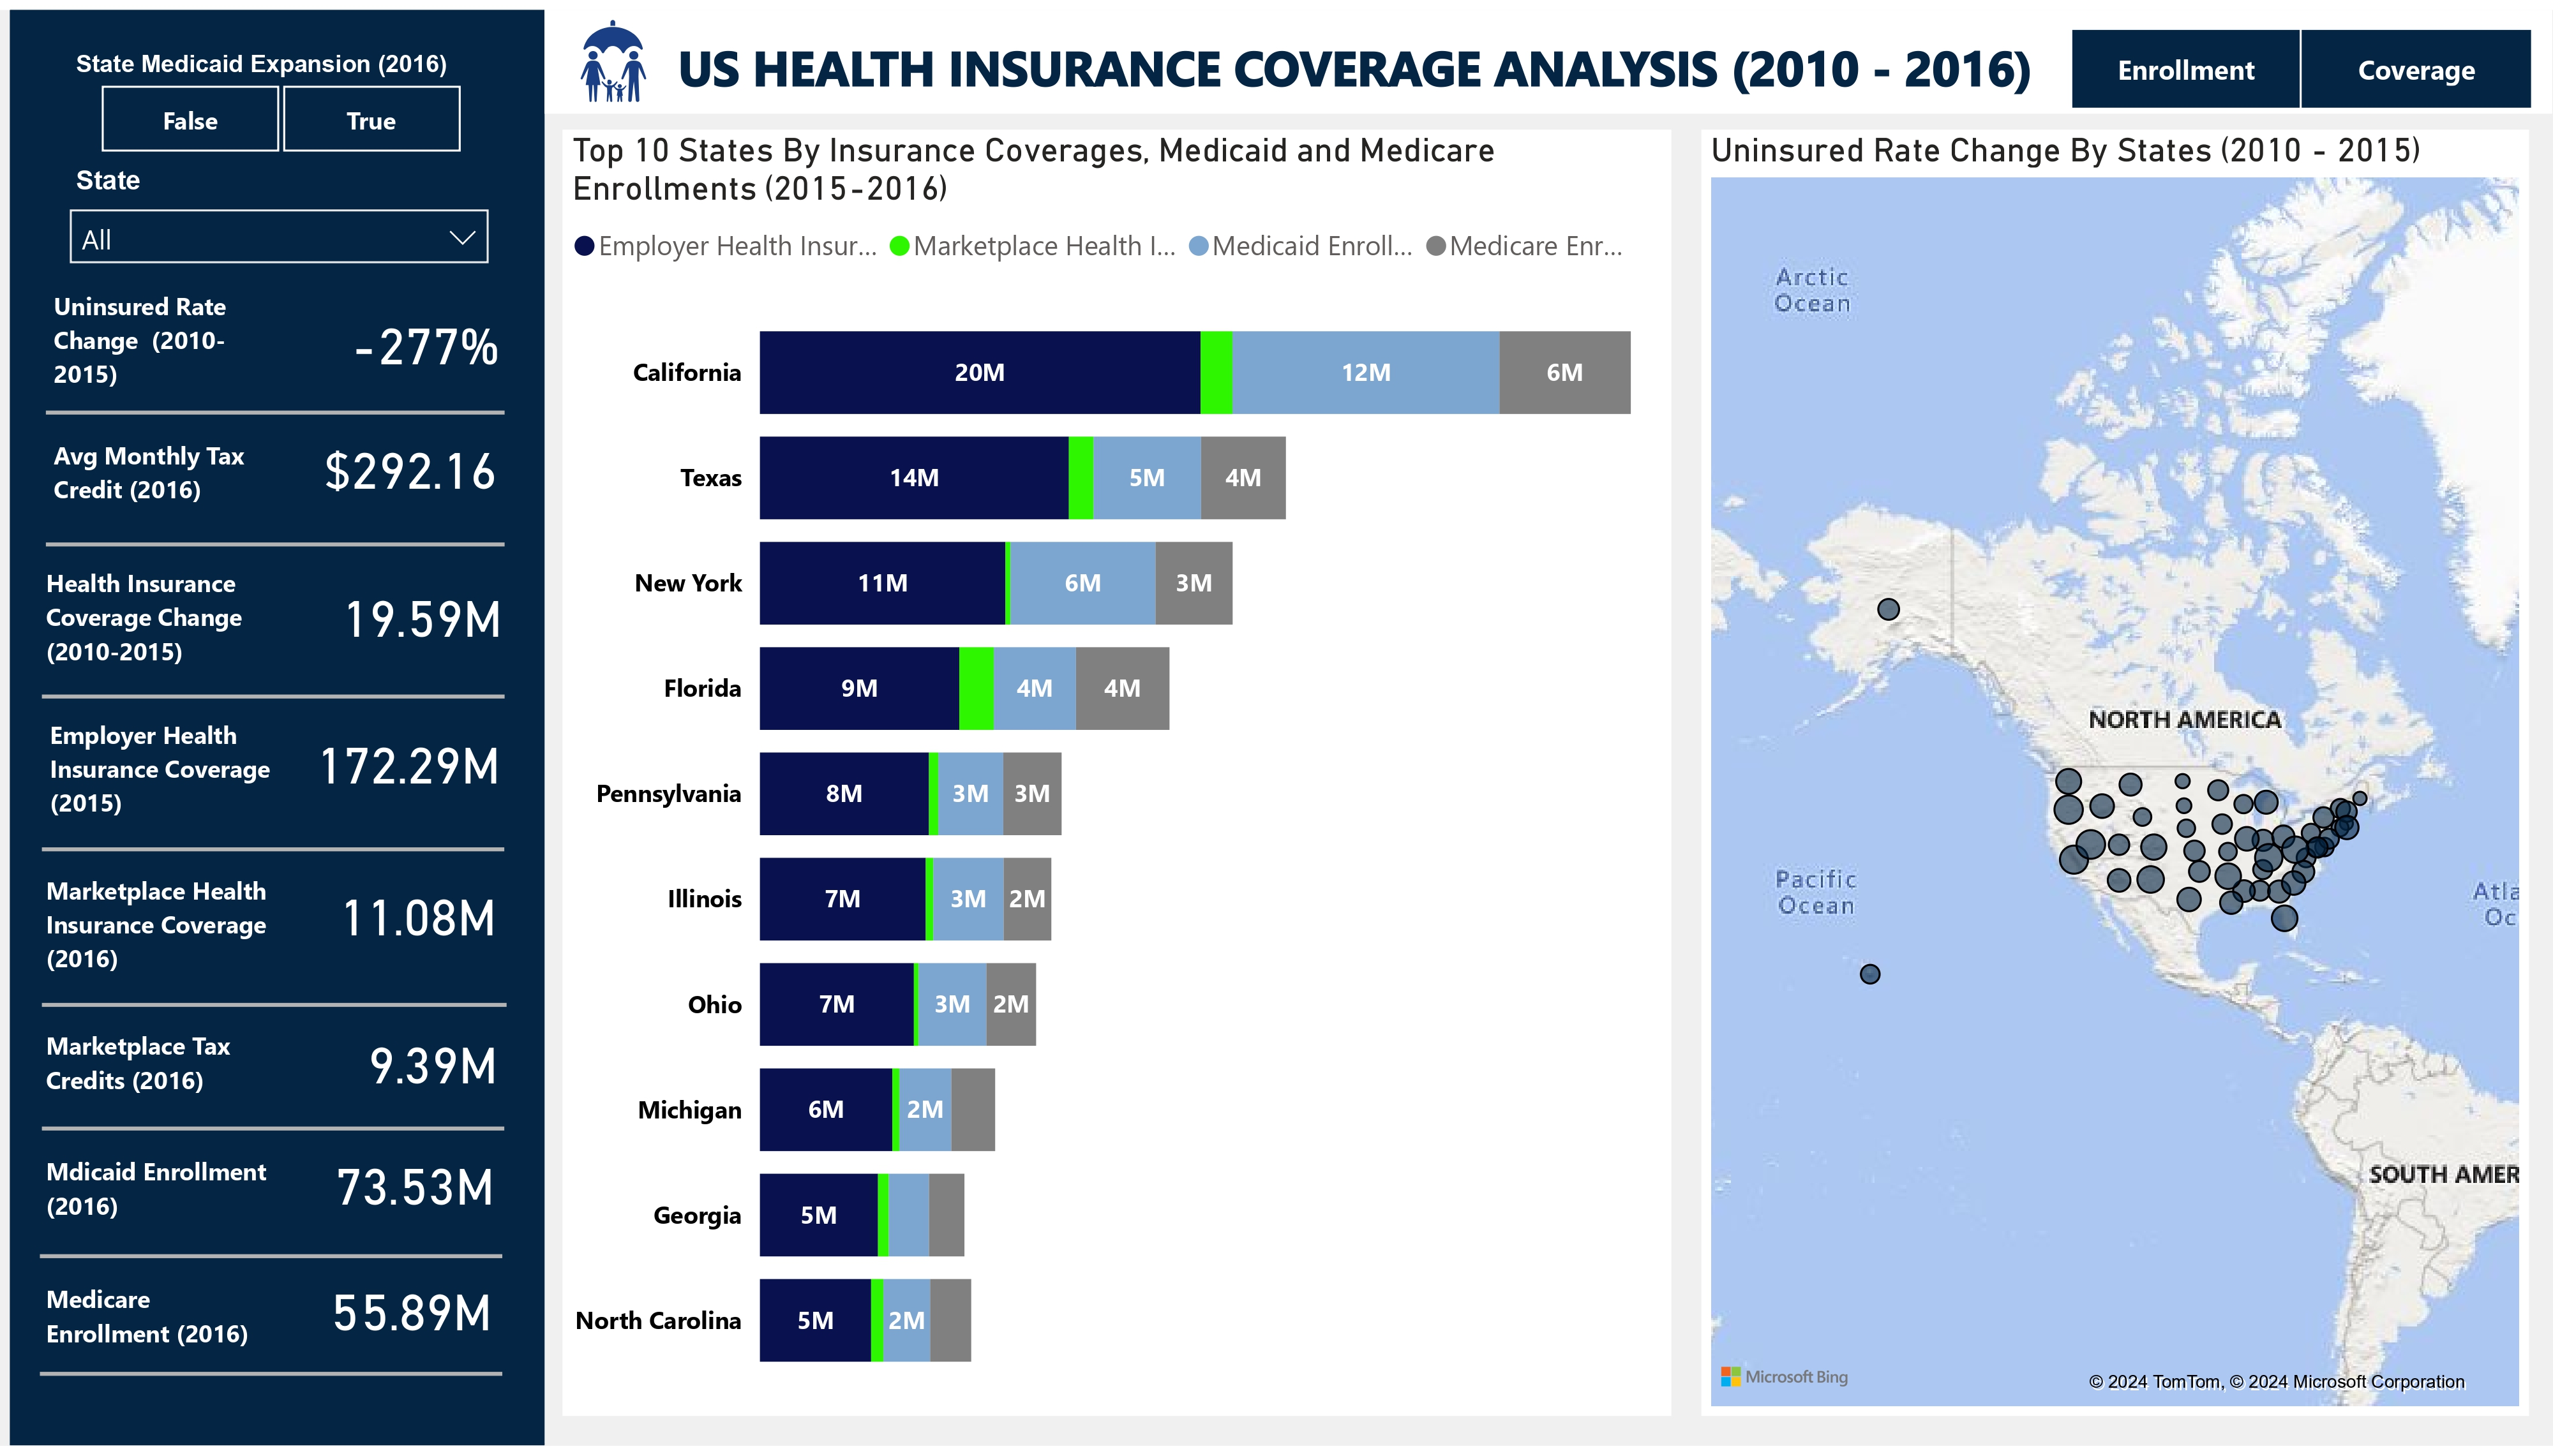

This screenshot's page, from the dashboard's own definition file:
{"tool":"powerbi","page":{"name":"REPORT 1","canvas":[1280,720],"ordinal":0},"visuals":[{"type":"shape","box":[5,0,268.4,719.7],"z":0},{"type":"card","fields":{"Values":["DAX.Avg Average Monthly Tax Credit (2016)"]},"box":[137.5,191.3,137.5,78],"z":1000},{"type":"card","fields":{"Values":["DAX.Formatted Health Insurance Coverage Change (2010-2015)"]},"box":[141.7,263.6,138.9,80.8],"z":2000},{"type":"card","fields":{"Values":["DAX.FORMATTED Employee Health Insurance Coverage (2015)"]},"box":[127.6,338.7,153.1,78],"z":3000},{"type":"card","fields":{"Values":["DAX.Formatted Marketplace Health Insurance Coverage (2016)"]},"box":[140.3,415.3,138.9,78],"z":4000},{"type":"shape","box":[23.3,249.6,230.4,36],"z":5000},{"type":"card","fields":{"Values":["DAX.Formatted Marketplace Tax Credit (2016)"]},"box":[146,487.6,141.7,80.8],"z":6000},{"type":"shape","box":[21.3,323.1,232.4,42.5],"z":7000},{"type":"shape","box":[21.3,399.9,231.8,41.8],"z":8000},{"type":"shape","box":[23.3,181.5,230.4,41.8],"z":9000},{"type":"shape","box":[21.3,477.6,233.3,41.8],"z":10000},{"type":"card","fields":{"Values":["DAX.Formatted Uninsured Rate Change (2010-2016)"]},"box":[144.6,127.6,136.1,79.4],"z":11000},{"type":"card","fields":{"Values":["DAX.Medicaid Enrollment (2016)"]},"box":[137.5,549.9,141.6,78.4],"z":12000},{"type":"textbox","box":[21.8,209.3,109.4,66.2],"z":13000},{"type":"textbox","box":[18.4,273.1,125.3,79.2],"z":14000},{"type":"textbox","box":[19.8,349.5,125.3,79.2],"z":15000},{"type":"textbox","box":[18.4,426.6,124.7,79.4],"z":16000},{"type":"textbox","box":[21.8,134,109.4,63.4],"z":17000},{"type":"textbox","box":[18.4,504.6,124.7,73.7],"z":18000},{"type":"shape","box":[21.3,540.3,231.8,41.8],"z":19000},{"type":"textbox","box":[18.4,568.4,125.3,60.5],"z":20000},{"type":"shape","box":[19.9,604.4,231.8,41.8],"z":21000},{"type":"card","fields":{"Values":["DAX.Medicare Enrollment (2016)"]},"box":[134.7,613.2,141.6,78.4],"z":22000},{"type":"textbox","box":[18.4,632.1,124.7,59.5],"z":23000},{"type":"shape","box":[19.9,663.3,231.8,41.8],"z":24000},{"type":"barChart","title":"Top 10 States With Most Declined Uninsured Rate Change (2010-2016)","fields":{"Category":["states.State"],"Y":["Sum(states.Uninsured Rate Change (2010-2015))"]},"box":[280.5,62.2,307,312],"z":25000},{"type":"donutChart","title":"States Medicaid Expansion (2016) Enrollment Status","fields":{"Series":["states.State Medicaid Expansion (2016)"],"Y":["CountNonNull(states.State Medicaid Expansion (2016))"]},"box":[599.7,62.2,312.4,312],"z":26000},{"type":"barChart","title":"Top 10 States With The Most Significant Medicaid Enrollment Change (2013-2016)","fields":{"Category":["states.State"],"Y":["Sum(states.Medicaid Enrollment Change (2013-2016))"]},"box":[923.9,62.2,344.4,312],"z":27000},{"type":"barChart","title":"Top 10 States By Health Insurance Coverage Change (2010-2015)","fields":{"Category":["states.State"],"Y":["Sum(states.Health Insurance Coverage Change (2010-2015))"]},"box":[280.5,386.4,307.4,322.5],"z":28000},{"type":"slicer","fields":{"Values":["states.State"]},"box":[24.7,72.9,229.6,64.6],"z":29000},{"type":"slicer","fields":{"Values":["states.State Medicaid Expansion (2016)"]},"box":[24.7,15.1,229.6,63.2],"z":30000},{"type":"shape","box":[273.4,0,1006.6,52],"z":31000},{"type":"textbox","box":[334.5,7.3,837.8,50.9],"z":32000},{"type":"image","box":[273.5,0,69.8,50.9],"z":33000},{"type":"barChart","title":"Top 10 States By Avg Monthly Tax Credit (2016)","fields":{"Category":["states.State"],"Y":["Sum(states.Average Monthly Tax Credit (2016))"]},"box":[599.7,389.7,312.4,317.5],"z":34000},{"type":"actionButton","box":[1153.7,7.1,114.8,39.7],"z":35000},{"type":"barChart","title":"Top 10 States By Marketplace Tax Credits (2016)","fields":{"Category":["states.State"],"Y":["Sum(states.Marketplace Tax Credits (2016))"]},"box":[923.9,389.7,344.4,319.2],"z":36000}]}

Visuals, with their boxes in screenshot pixels (x1, y1, x2, y2), scaled from the page's 1280x720 canvas onto the 2553x1456 screenshot:
shape: 10 0 545 1455
card - DAX.Avg Average Monthly Tax Credit (2016): 274 387 548 545
card - DAX.Formatted Health Insurance Coverage Change (2010-2015): 283 533 560 697
card - DAX.FORMATTED Employee Health Insurance Coverage (2015): 255 685 560 843
card - DAX.Formatted Marketplace Health Insurance Coverage (2016): 280 840 557 997
shape: 47 505 506 577
card - DAX.Formatted Marketplace Tax Credit (2016): 291 986 574 1150
shape: 43 653 506 739
shape: 43 808 505 893
shape: 47 367 506 452
shape: 43 966 508 1050
card - DAX.Formatted Uninsured Rate Change (2010-2016): 288 258 560 419
card - DAX.Medicaid Enrollment (2016): 274 1112 557 1270
textbox: 43 423 262 557
textbox: 36 553 287 713
textbox: 40 707 289 867
textbox: 36 863 285 1023
textbox: 43 271 262 399
textbox: 36 1020 285 1170
shape: 43 1092 505 1177
textbox: 36 1150 287 1272
shape: 40 1222 502 1307
card - DAX.Medicare Enrollment (2016): 269 1240 551 1399
textbox: 36 1278 285 1399
shape: 40 1341 502 1426
"Top 10 States With Most Declined Uninsured Rate Change (2010-2016)" barChart: 560 126 1172 757
"States Medicaid Expansion (2016) Enrollment Status" donutChart: 1196 126 1819 757
"Top 10 States With The Most Significant Medicaid Enrollment Change (2013-2016)" barChart: 1843 126 2529 757
"Top 10 States By Health Insurance Coverage Change (2010-2015)" barChart: 560 782 1172 1434
slicer - states.State: 49 147 507 278
slicer - states.State Medicaid Expansion (2016): 49 31 507 158
shape: 545 0 2552 105
textbox: 667 15 2338 117
image: 546 0 685 103
"Top 10 States By Avg Monthly Tax Credit (2016)" barChart: 1196 788 1819 1430
actionButton: 2301 15 2530 94
"Top 10 States By Marketplace Tax Credits (2016)" barChart: 1843 788 2529 1434
